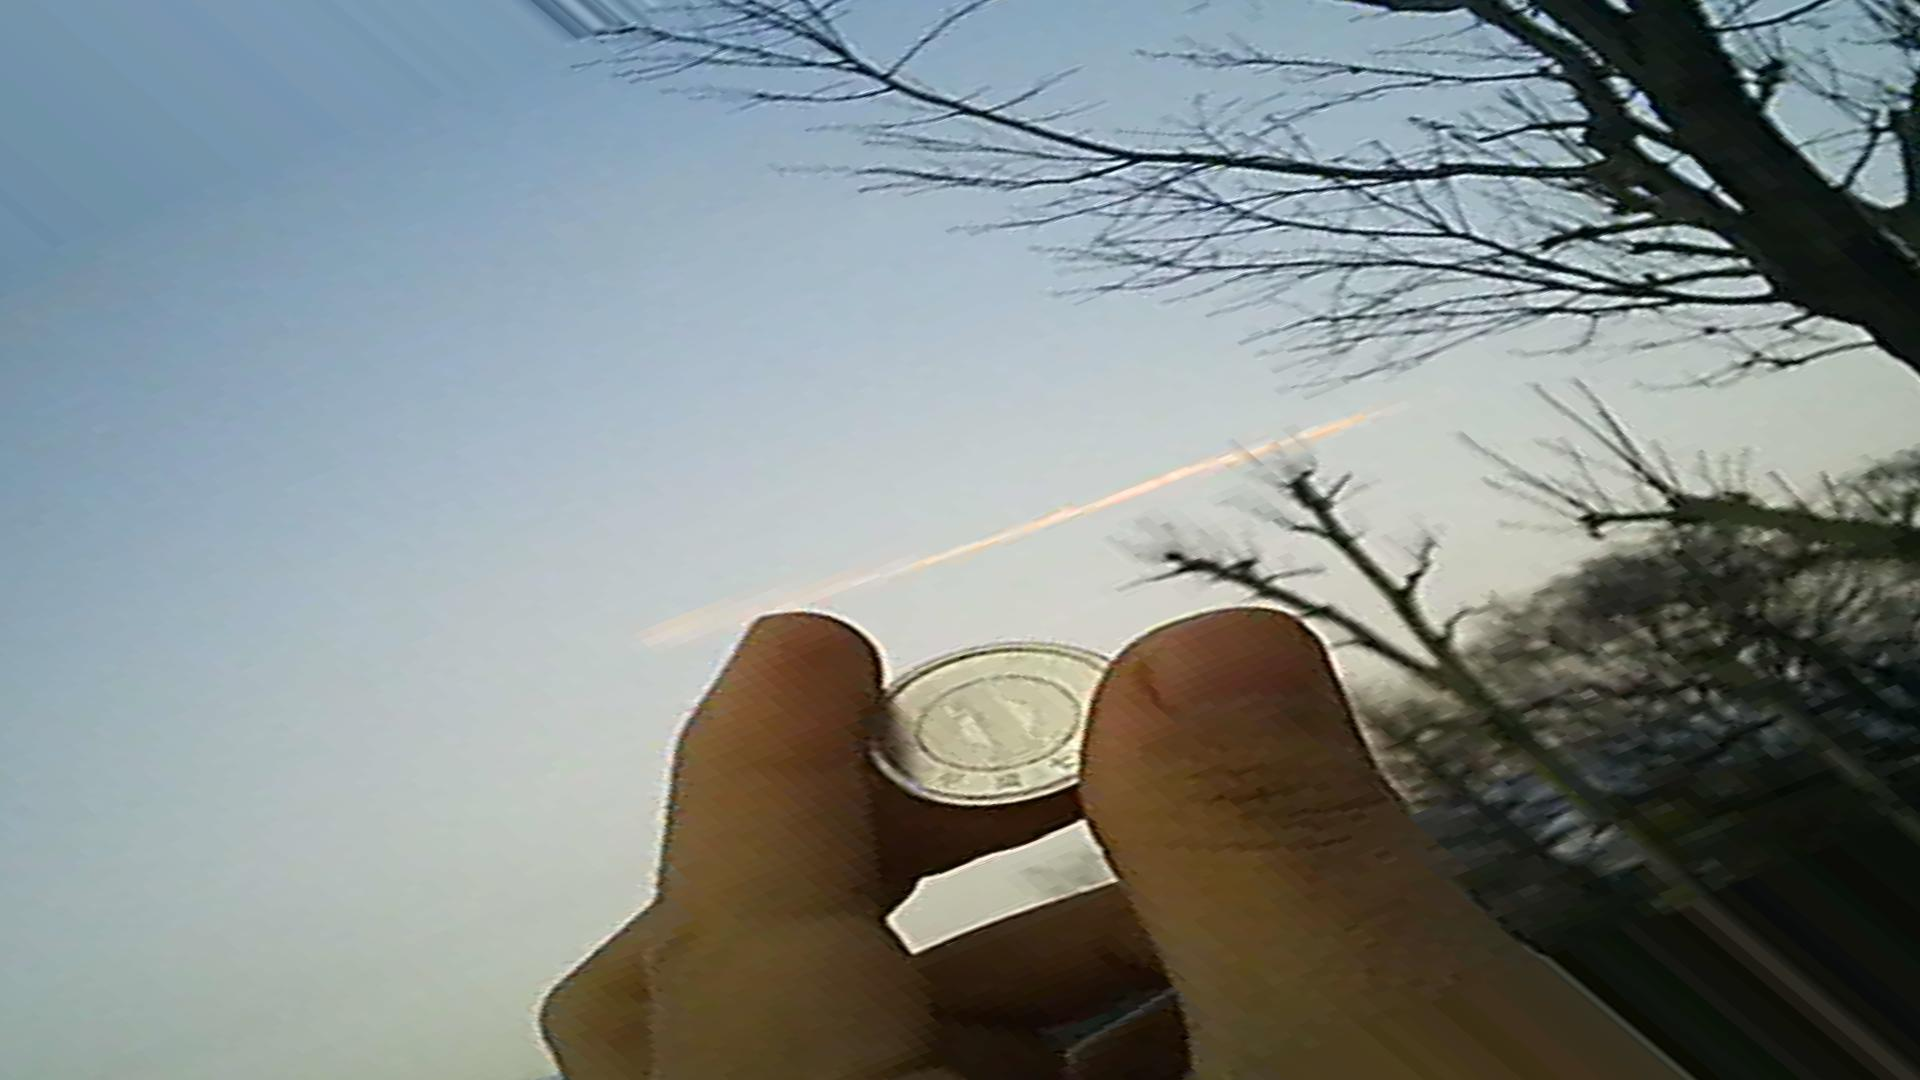1 Yen: (851, 633, 1131, 796)
